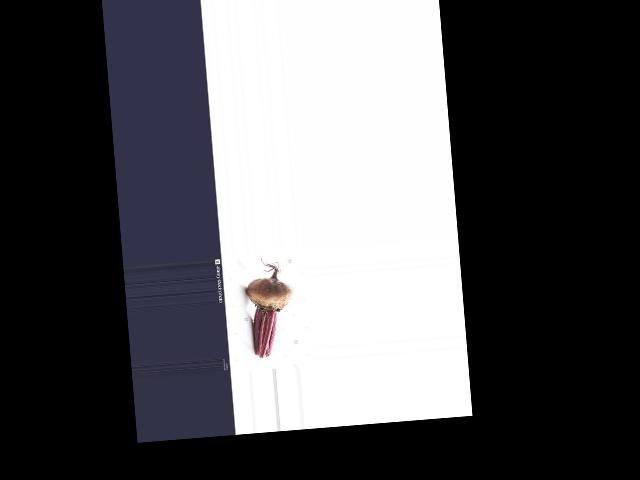beet: (243, 256, 296, 358)
